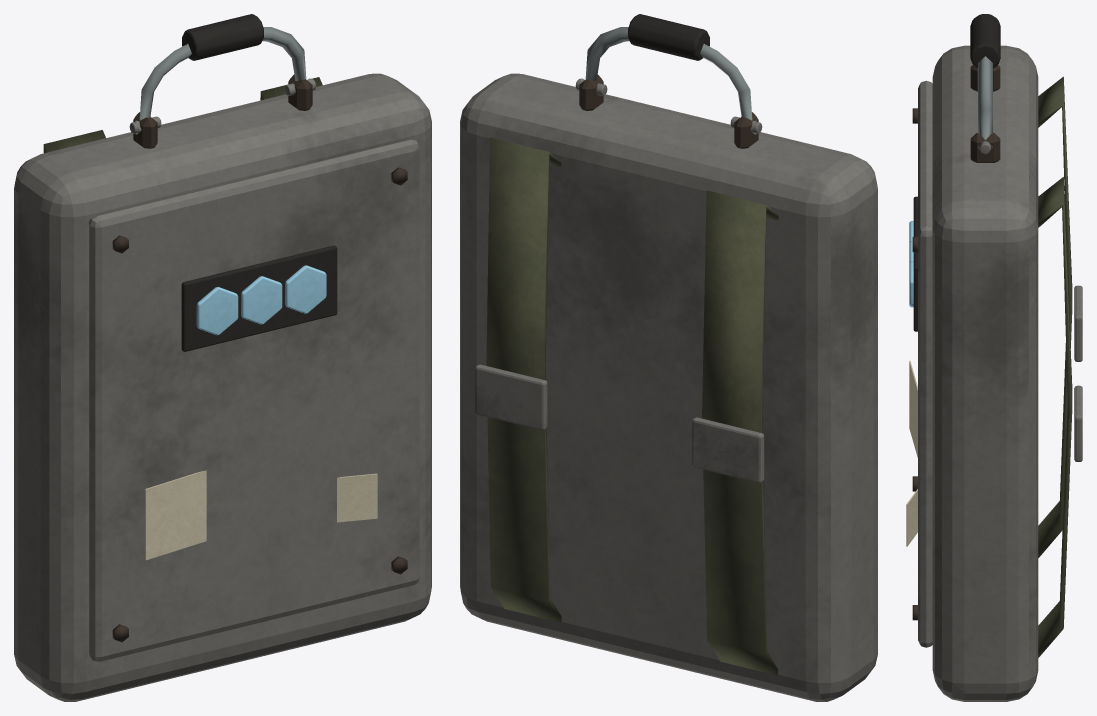
The model's file is prop_shield_light_01.gltf.
3 renders of one model, left to right at view 1: azimuth 30°, elevation 25°; view 2: azimuth 150°, elevation 25°; view 3: azimuth 270°, elevation 25°, orthographic. The views are drawn at different scales.
Visible parts, largest first — view 1: prop_shield_light_01_item_atlas_01; view 2: prop_shield_light_01_item_atlas_01; view 3: prop_shield_light_01_item_atlas_01.
Boxes of the visible parts, x1,y1,x2,y2 form: prop_shield_light_01_item_atlas_01: [14, 14, 431, 701]; prop_shield_light_01_item_atlas_01: [460, 14, 877, 701]; prop_shield_light_01_item_atlas_01: [906, 14, 1082, 701].
Size of the model in its own units: 0.2 by 0.31 by 0.0835.
1 material, 1 textured.
